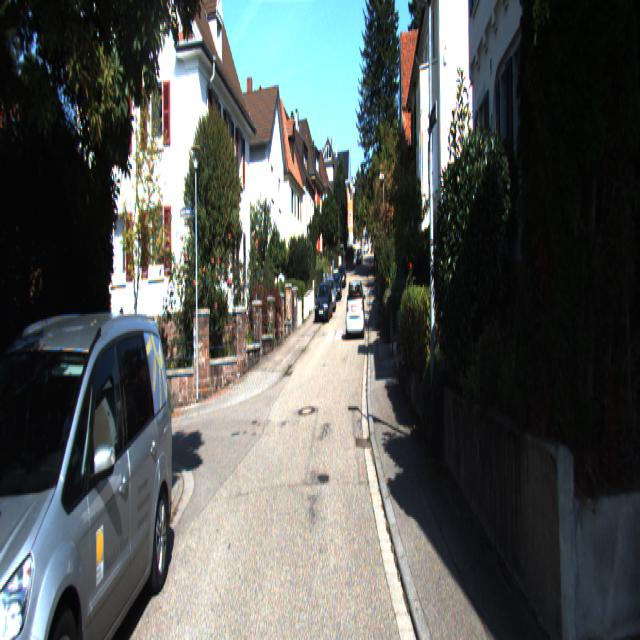Car: (0, 319, 180, 638), (345, 277, 366, 339), (314, 284, 334, 324)
